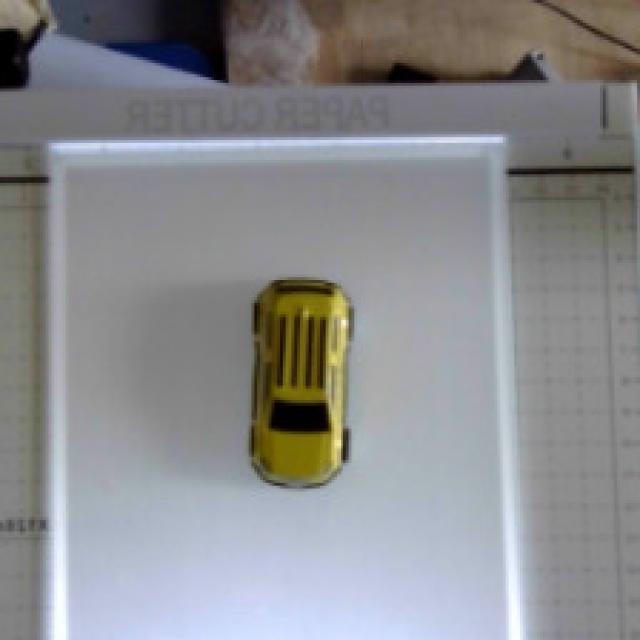Yellow Car: (177, 249, 407, 532)
